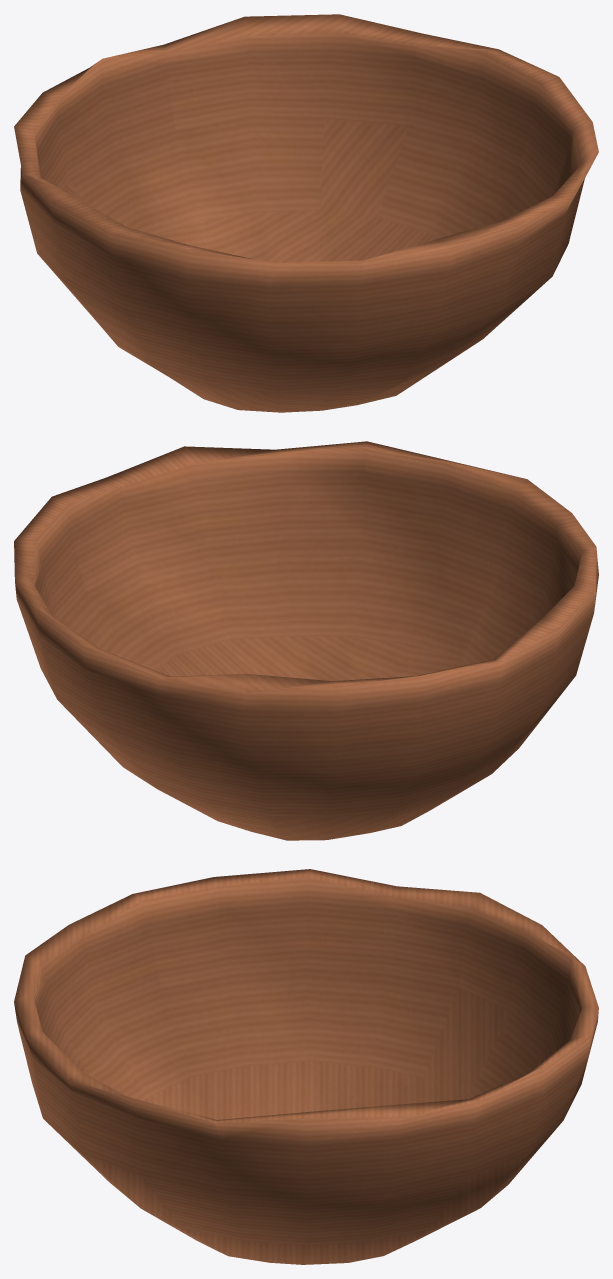
File: bowl.glb
3 views of the same model, one above another, from view 1: azimuth 30°, elevation 25°; view 2: azimuth 150°, elevation 25°; view 3: azimuth 270°, elevation 25° (orthographic).
Visible parts, largest first — view 1: bowl; view 2: bowl; view 3: bowl.
Part boxes in pixels (x1,y1,x2,y2): bowl: [14, 14, 598, 412]; bowl: [14, 441, 598, 840]; bowl: [14, 869, 598, 1264].
Size of the model in its own units: 0.5034 by 0.2278 by 0.496.
Materials: 1 (1 with a texture image).
